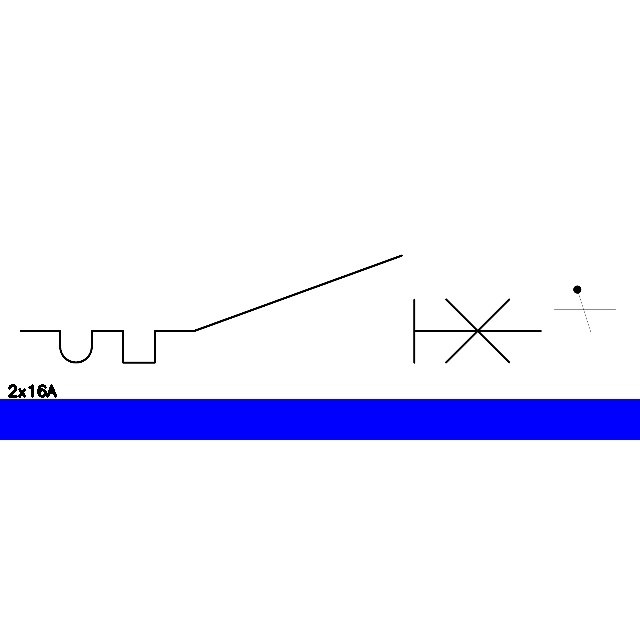interruptor_termomagnetico: (7, 242, 554, 376)
